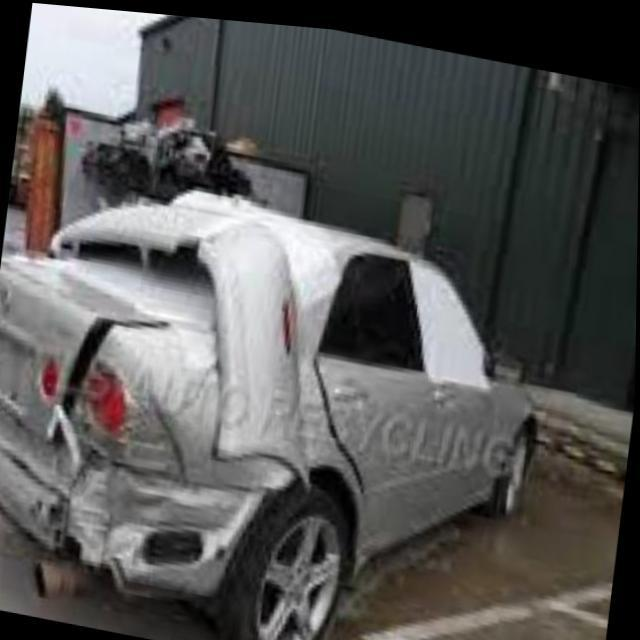crash: (0, 194, 343, 584)
